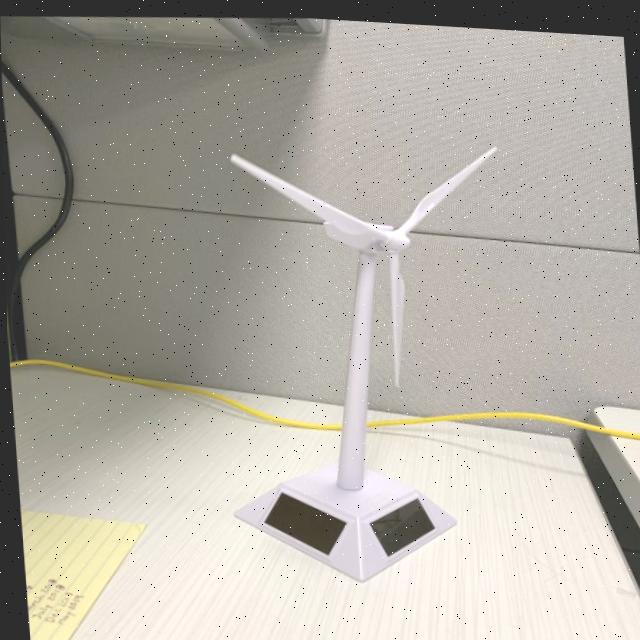solid-blade: (229, 151, 379, 230), (395, 142, 496, 230), (388, 247, 404, 380)
